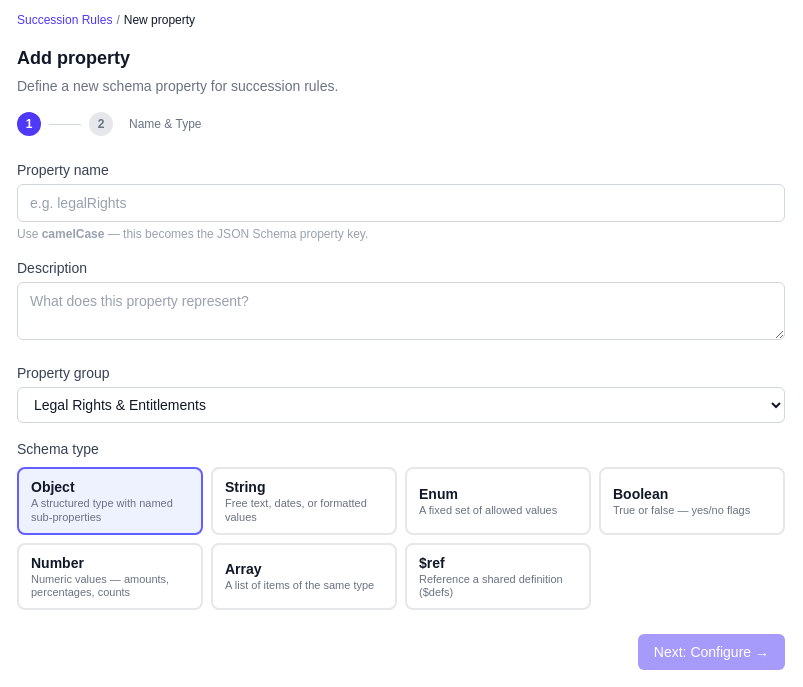
it: AddPropertyWizard › advances to step 2 when Next is clicked
Step 1. Type "legalRights" into the field labelled "Property name" → (401, 203), box x1=17 y1=184 x2=785 y2=222
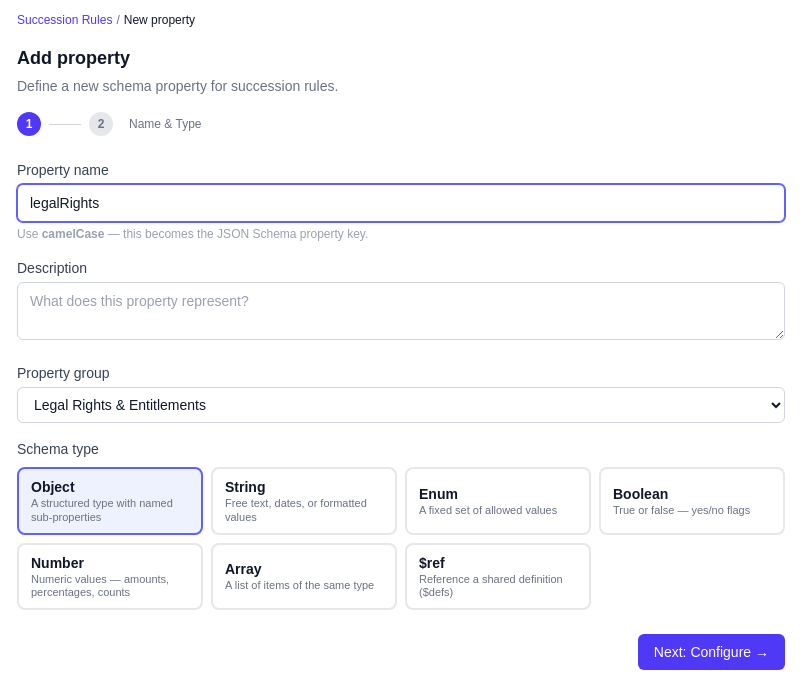
Step 2. Click the button "Next: Configure →" → (711, 652), box x1=638 y1=634 x2=785 y2=670
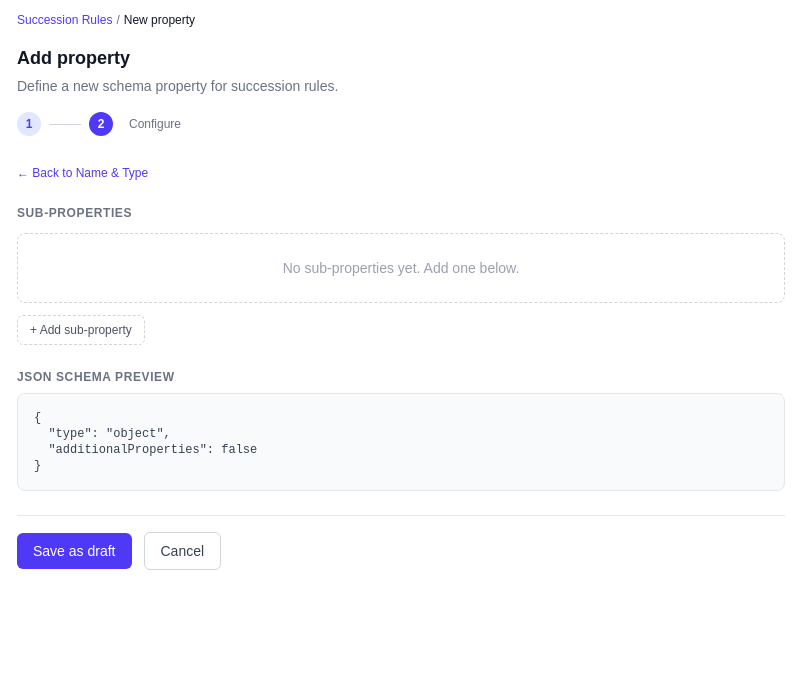
Expected: the button "← Back to Name & Type" is shown, x1=17 y1=165 x2=148 y2=181
Expected: the heading "JSON Schema preview" is shown, x1=17 y1=370 x2=175 y2=384
